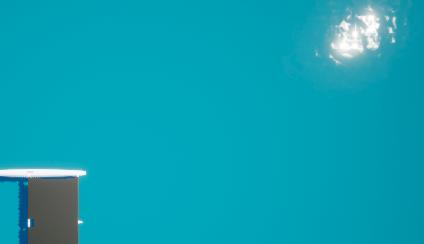boat: (0, 166, 93, 244)
drone: (28, 177, 77, 244)
land_base: (305, 1, 422, 79)
